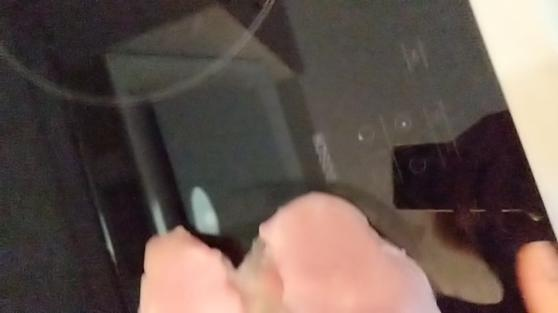chicken_fillet: (235, 188, 439, 313), (129, 222, 235, 313)
